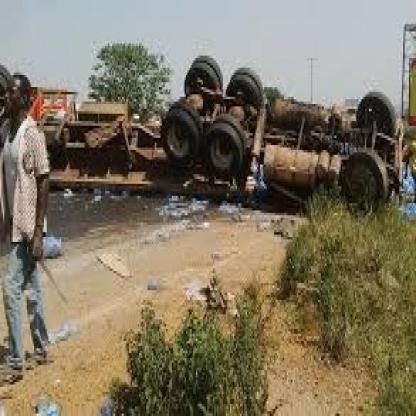accident: (56, 48, 416, 250)
